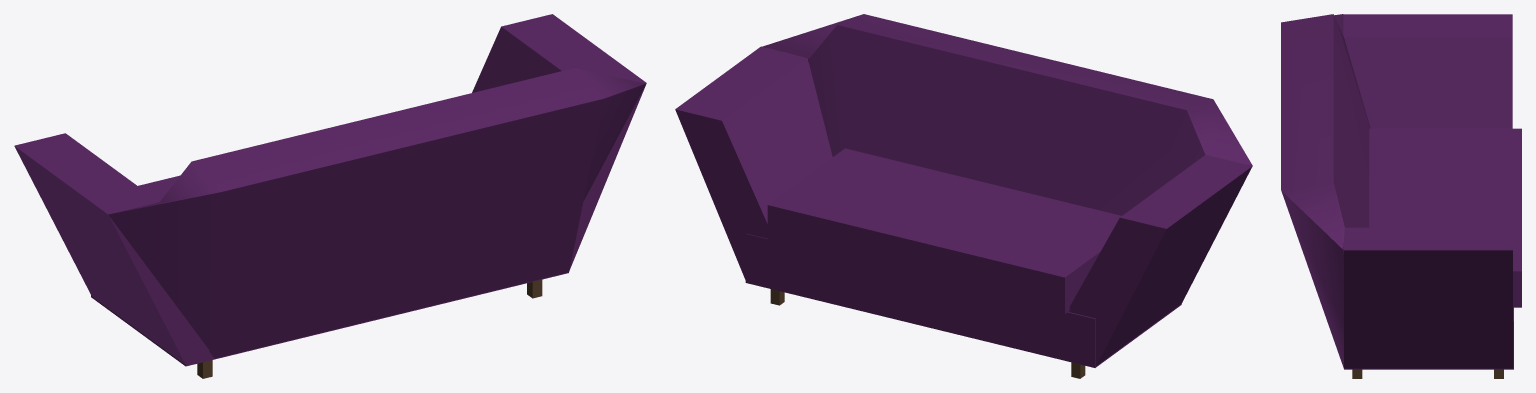
File: couch.fbx
3 views of the same model, side by side, from view 1: azimuth 30°, elevation 25°; view 2: azimuth 150°, elevation 25°; view 3: azimuth 270°, elevation 25° (orthographic). The views are drawn at different scales.
Parts seen in each view (by area): view 1: pCube14, pCube15, pCube13, pCube12; view 2: pCube14, pCube16, pCube13, pCube15, pCube12; view 3: pCube13, pCube14, pCube15, pCube16, pCube12.
Boxes of the visible parts, left/top/right/bottom form: pCube14: left=108, top=68, right=645, bottom=358; pCube15: left=14, top=133, right=209, bottom=366; pCube13: left=472, top=14, right=646, bottom=272; pCube12: left=91, top=272, right=568, bottom=366; pCube14: left=762, top=14, right=1252, bottom=215; pCube16: left=767, top=148, right=1121, bottom=314; pCube13: left=675, top=46, right=832, bottom=279; pCube15: left=1069, top=154, right=1252, bottom=365; pCube12: left=745, top=233, right=1181, bottom=367; pCube13: left=1344, top=227, right=1512, bottom=368; pCube14: left=1281, top=14, right=1370, bottom=369; pCube15: left=1343, top=14, right=1512, bottom=128; pCube16: left=1369, top=128, right=1521, bottom=307; pCube12: left=1344, top=307, right=1513, bottom=369.
Bounding box in the file's own units: 27.9 × 11.4 × 12.03.
